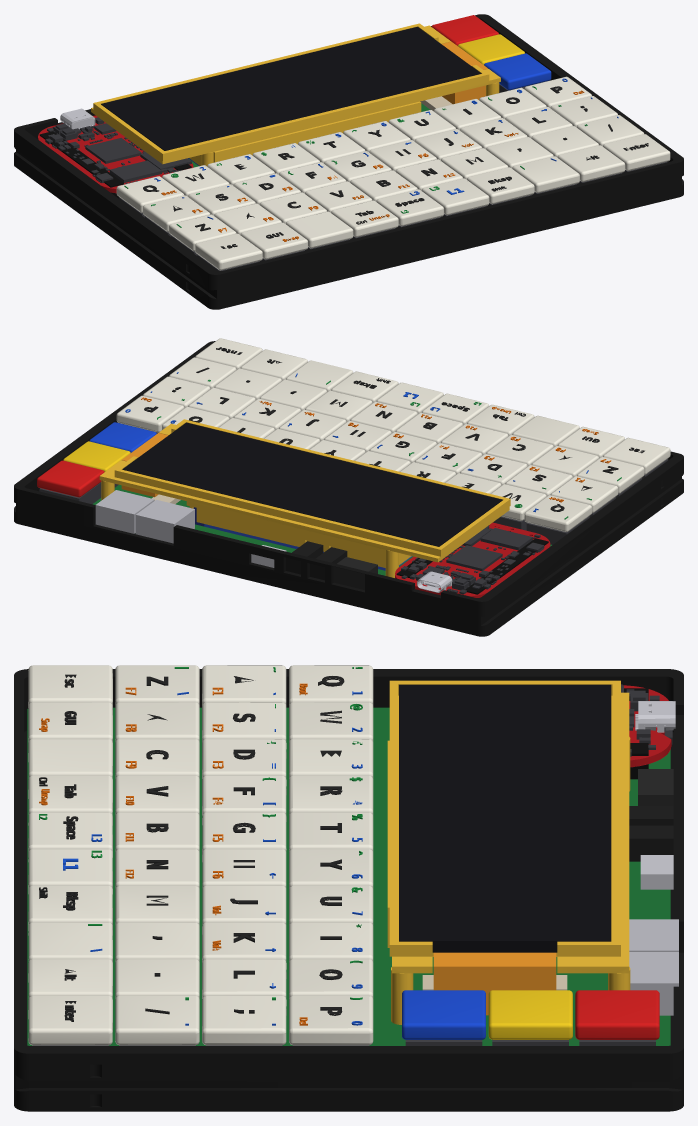
Rendered from open_midnight.glb.
The picture shows the model from 3 angles, top to bottom: view 1: azimuth 30°, elevation 25°; view 2: azimuth 150°, elevation 25°; view 3: azimuth 270°, elevation 25°; orthographic projection. The views are drawn at different scales.
Visible parts, largest first — view 1: Internals, Tray; view 2: Internals, Tray; view 3: Internals, Tray.
Part boxes in pixels (x1,y1,x2,y2): Internals: (38,15,670,270); Tray: (14,14,683,309); Internals: (37,338,670,597); Tray: (14,341,683,636); Internals: (27,665,678,1045); Tray: (14,669,683,1111).
Size of the model in its own units: 0.1782 by 0.0211 by 0.1312.
